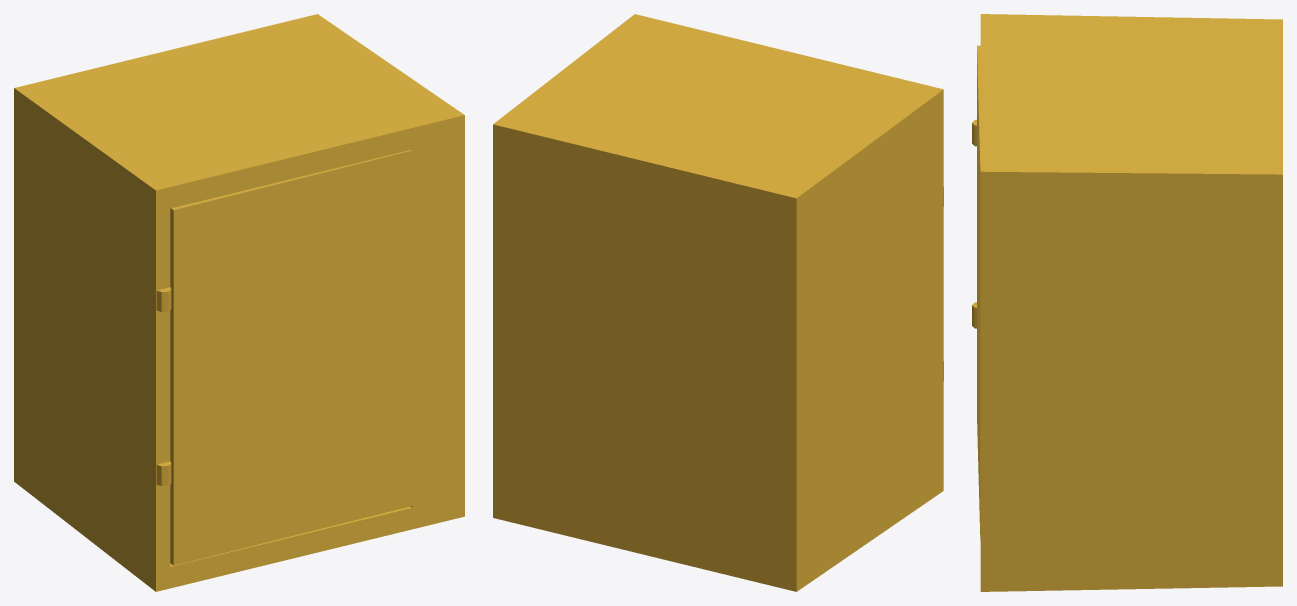
File: f_WINDA.fbx
3 renders of one model, left to right at view 1: azimuth 30°, elevation 25°; view 2: azimuth 150°, elevation 25°; view 3: azimuth 270°, elevation 25°, orthographic. The views are drawn at different scales.
Visible parts, largest first — view 1: F_Winda, F_Drzwi od windy; view 2: F_Winda; view 3: F_Winda, F_Drzwi od windy.
Part boxes in pixels (x1,y1,x2,y2): F_Winda: (14, 14, 464, 591); F_Drzwi od windy: (170, 150, 412, 565); F_Winda: (493, 14, 943, 591); F_Winda: (972, 14, 1282, 591); F_Drzwi od windy: (977, 45, 980, 540).
Size of the model in its own units: 410 by 509 by 341.
